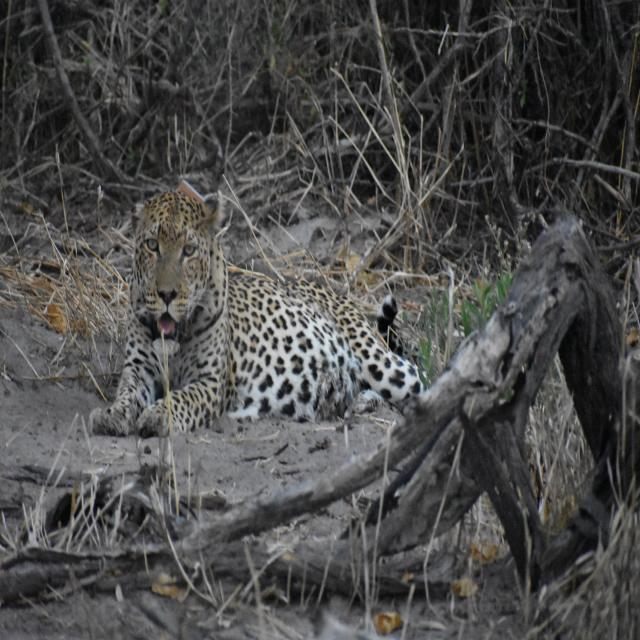Leopard: (92, 187, 428, 435)
